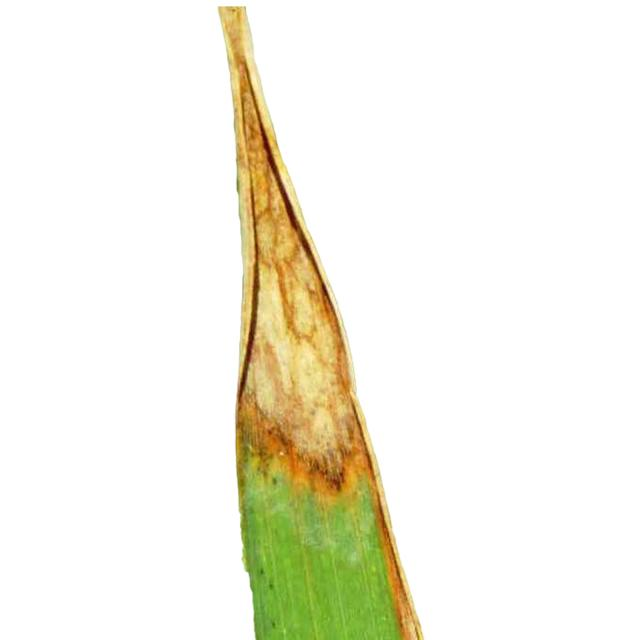Leaf scald: (144, 0, 527, 640)
